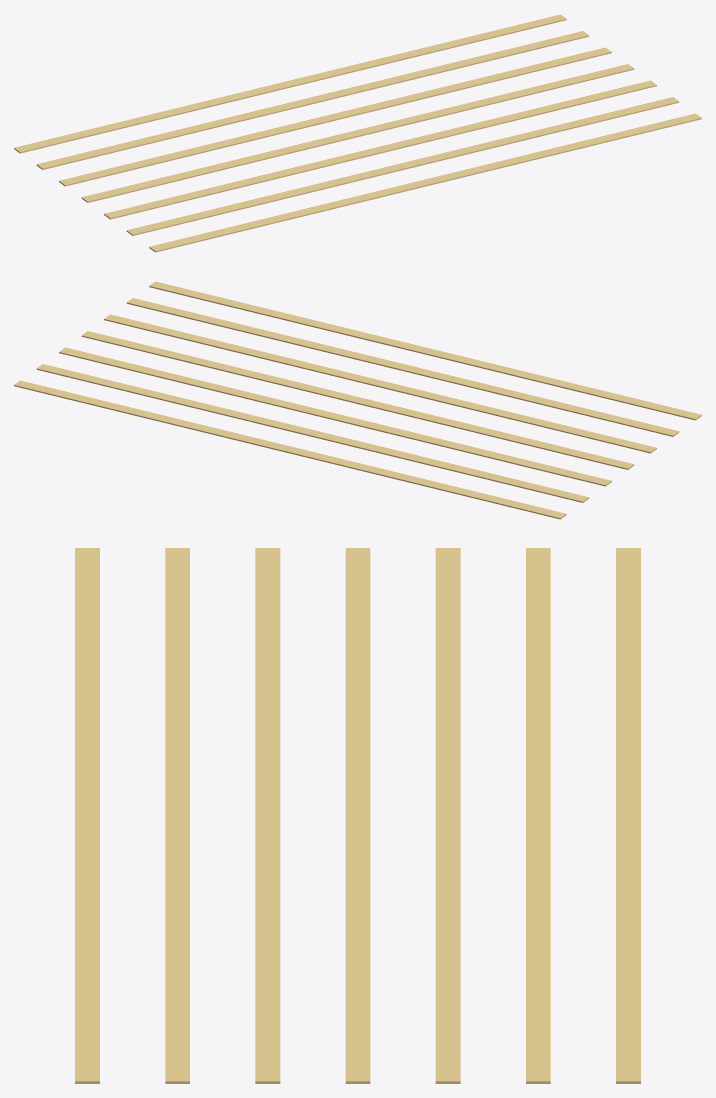
The model's file is 399_L125_TR1_RFArtwork.glb.
3 views of the same model, one above another, from view 1: azimuth 30°, elevation 25°; view 2: azimuth 150°, elevation 25°; view 3: azimuth 270°, elevation 25° (orthographic). The views are drawn at different scales.
Parts seen in each view (by area): view 1: 399_L125_TR1_RFArtwork_gold; view 2: 399_L125_TR1_RFArtwork_gold; view 3: 399_L125_TR1_RFArtwork_gold.
Part boxes in pixels (left/top/right/bottom): 399_L125_TR1_RFArtwork_gold: left=14, top=14, right=701, bottom=252; 399_L125_TR1_RFArtwork_gold: left=14, top=281, right=701, bottom=519; 399_L125_TR1_RFArtwork_gold: left=75, top=548, right=640, bottom=1083.
Bounding box in the file's own units: 0.028 × 6e-05 × 0.0126.
